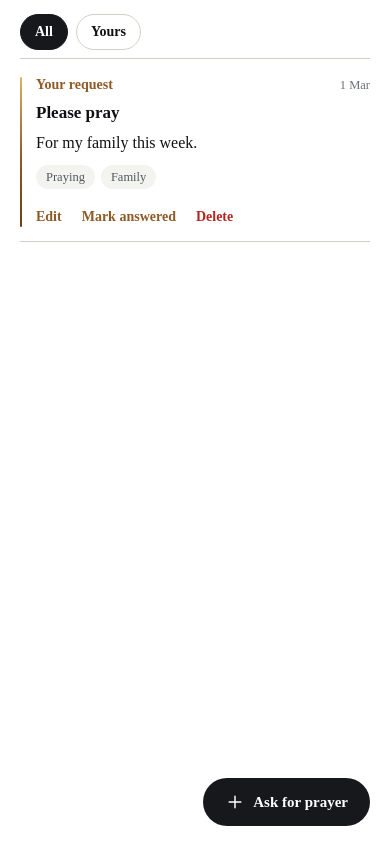
Test: deleting your own request › asks first, in the app’s own dialog, and says it is for everyone and cannot be undone
The width and height of the screenshot is (390, 844).
Click the button with test id "prayer-request-delete-p1" at (215, 217), box [196, 195, 233, 239]
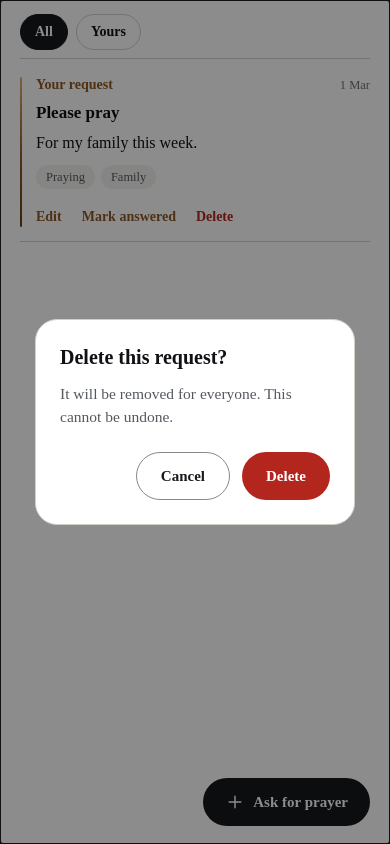
Now the heading "Delete this request?" is shown, box [60, 346, 227, 368]
Now the text "It will be removed for everyone. This cannot be undone." is shown, box [60, 382, 330, 428]
